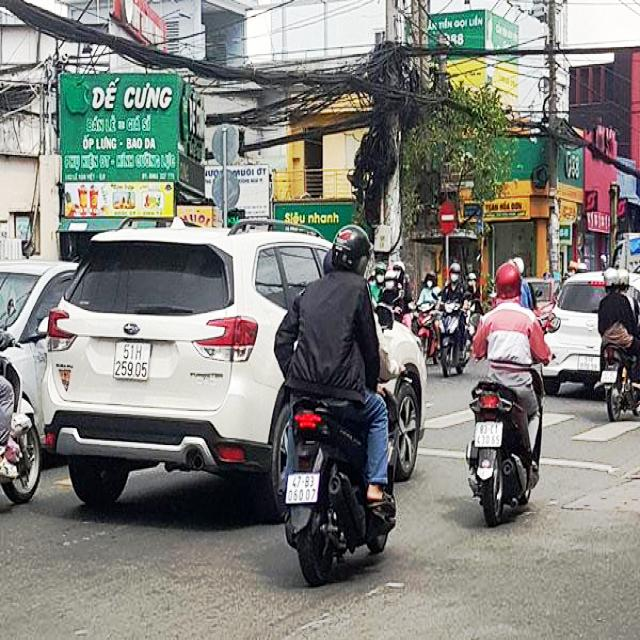license_plate: (112, 341, 153, 384), (286, 475, 320, 507)
